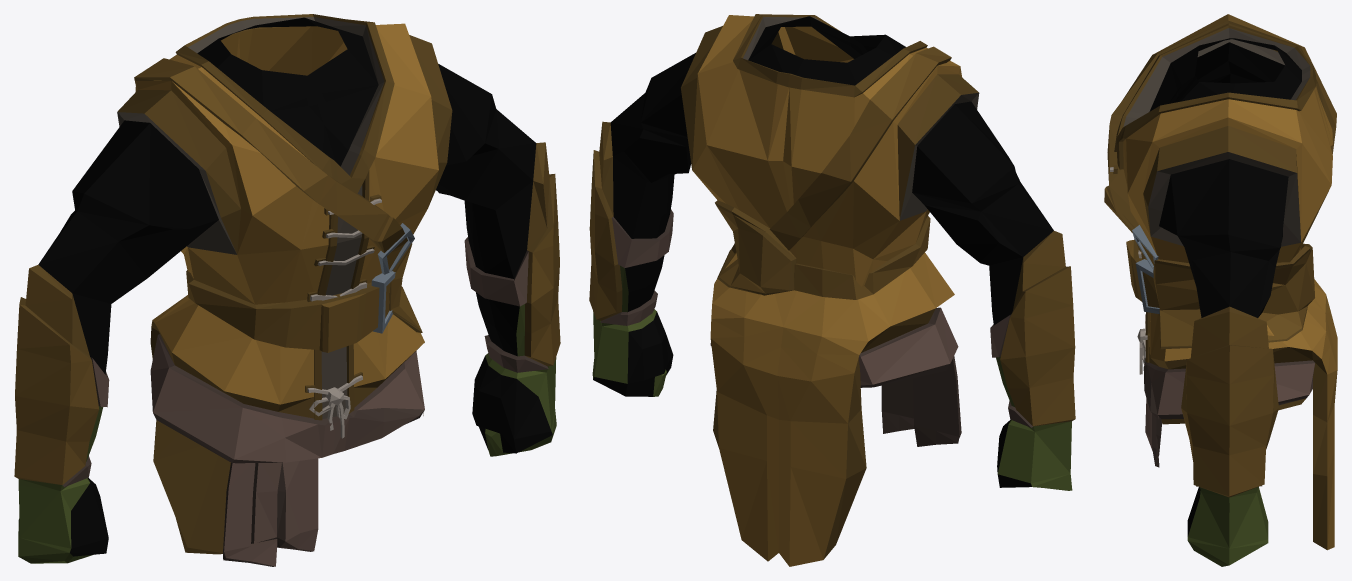
Rendered from FemaleArcherChest.dae.
3 views of the same model, side by side, from view 1: azimuth 30°, elevation 25°; view 2: azimuth 150°, elevation 25°; view 3: azimuth 270°, elevation 25° (orthographic). The views are drawn at different scales.
Visible parts, largest first — view 1: FemaleChest; view 2: FemaleChest; view 3: FemaleChest.
Part boxes in pixels (x1,y1,x2,y2): FemaleChest: (14, 14, 560, 566); FemaleChest: (589, 14, 1075, 566); FemaleChest: (1104, 14, 1337, 566).
Bounding box in the file's own units: 4.86 × 2.06 × 4.71.
